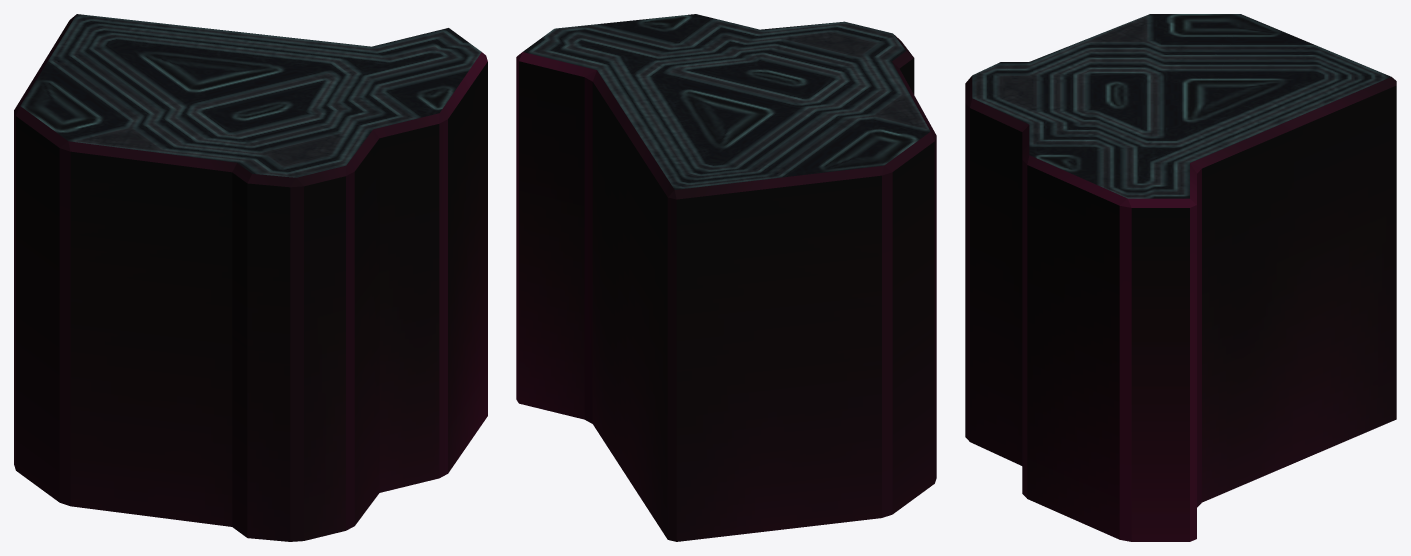
The model's file is SM_Wall_02.fbx.
3 renders of one model, left to right at view 1: azimuth 30°, elevation 25°; view 2: azimuth 150°, elevation 25°; view 3: azimuth 270°, elevation 25°, orthographic. The views are drawn at different scales.
Visible parts, largest first — view 1: Wall_02; view 2: Wall_02; view 3: Wall_02.
Boxes of the visible parts, x1,y1,x2,y2 form: Wall_02: [14, 14, 487, 541]; Wall_02: [516, 14, 936, 541]; Wall_02: [965, 14, 1396, 541].
Size of the model in its own units: 3.5 by 2.92 by 3.35.
